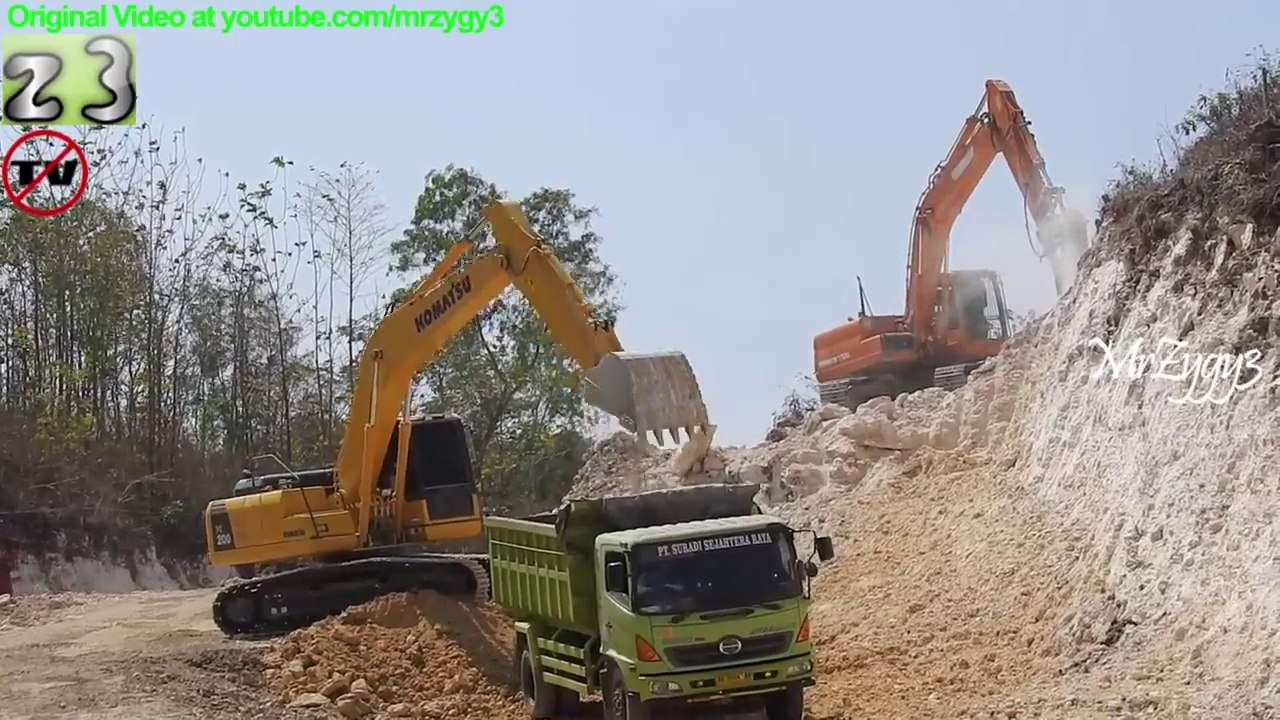excavator: (202, 199, 717, 647)
excavator breaker: (806, 75, 1106, 427)
truck: (482, 479, 842, 720)
